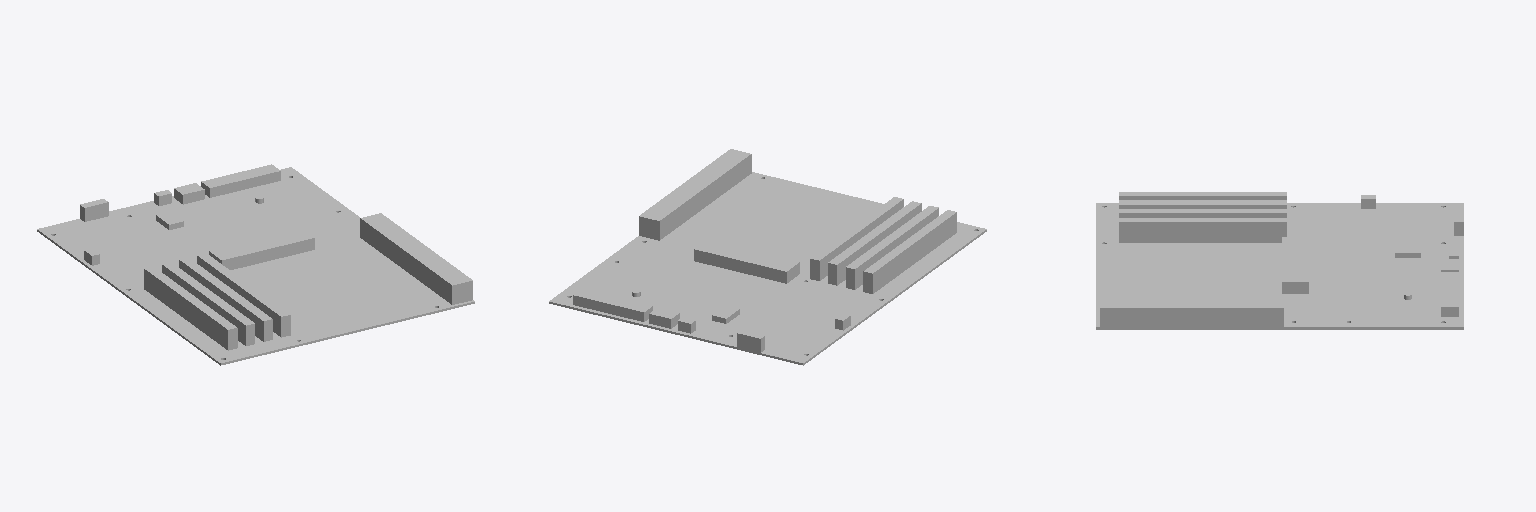
Rendered from Motherboard.obj.
3 views of the same model, side by side, from view 1: azimuth 30°, elevation 25°; view 2: azimuth 150°, elevation 25°; view 3: azimuth 270°, elevation 25° (orthographic).
Visible parts, largest first — view 1: obj_0; view 2: obj_0; view 3: obj_0.
Boxes of the visible parts, x1,y1,x2,y2 form: obj_0: [37, 164, 474, 365]; obj_0: [549, 149, 986, 365]; obj_0: [1096, 192, 1463, 329].
Size of the model in its own units: 2.44 by 0.21 by 3.05.